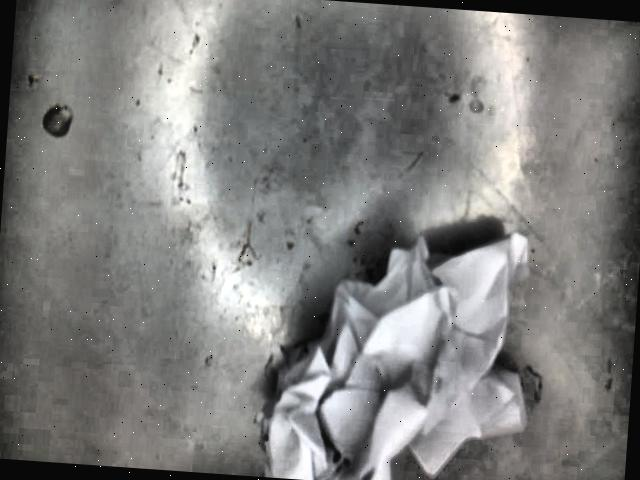Paper: (253, 232, 530, 480)
